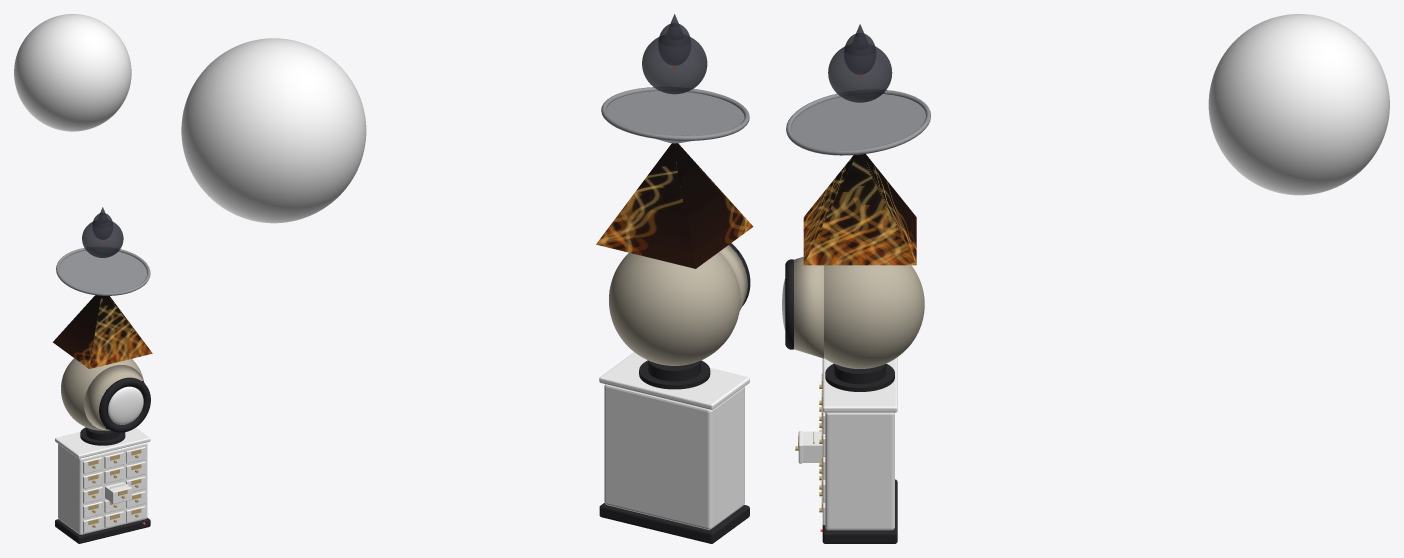
The model's file is stupa2.glb.
3 renders of one model, left to right at view 1: azimuth 30°, elevation 25°; view 2: azimuth 150°, elevation 25°; view 3: azimuth 270°, elevation 25°, orthographic. The views are drawn at different scales.
Visible parts, largest first — view 1: Sphere.005, Cone.001, Cube.001, Cone.002, Sphere, Cone, Sphere.002, Cube.002, Torus, Sphere.001, Cube, Torus.001 (+19 smaller); view 2: Sphere.005, Cube.001, Sphere, Cone.001, Cone.002, Cube.002, Sphere.002, Cube, Torus.001, Sphere.003, Cylinder.017, Cylinder.016; view 3: Sphere.005, Cone.001, Sphere, Cube.001, Cone.002, Sphere.002, Cone, Cube.002, Torus.001, Cube, Sphere.003, Cylinder.017 (+2 smaller).
Boxes of the visible parts, <box> form: Sphere.005: <box>14,14,131,131</box>; Cone.001: <box>53,295,152,368</box>; Cube.001: <box>58,442,147,534</box>; Cone.002: <box>59,250,147,292</box>; Sphere: <box>61,358,143,430</box>; Cone: <box>84,365,144,430</box>; Sphere.002: <box>82,220,123,257</box>; Cube.002: <box>55,427,150,458</box>; Torus: <box>99,377,150,432</box>; Sphere.001: <box>108,386,143,424</box>; Cube: <box>55,518,150,543</box>; Torus.001: <box>56,248,150,295</box>; Sphere.005: <box>181,38,366,223</box>; Cube.001: <box>604,384,744,529</box>; Sphere: <box>609,252,740,365</box>; Cone.001: <box>596,143,753,268</box>; Cone.002: <box>606,91,744,143</box>; Cube.002: <box>599,352,749,409</box>; Sphere.002: <box>642,35,707,94</box>; Cube: <box>599,503,749,543</box>; Torus.001: <box>601,87,749,140</box>; Sphere.003: <box>658,23,690,65</box>; Cylinder.017: <box>639,360,710,389</box>; Cylinder.016: <box>648,360,700,381</box>; Sphere.005: <box>1208,14,1389,195</box>; Cone.001: <box>803,154,916,265</box>; Sphere: <box>824,265,924,368</box>; Cube.001: <box>825,412,894,530</box>; Cone.002: <box>791,94,925,150</box>; Sphere.002: <box>828,44,892,102</box>; Cone: <box>794,256,823,358</box>; Cube.002: <box>822,357,897,412</box>; Torus.001: <box>786,90,930,155</box>; Cube: <box>822,479,897,543</box>; Sphere.003: <box>844,33,875,74</box>; Cylinder.017: <box>825,363,894,391</box>.
Bounding box in the file's own units: 2.82 × 4.95 × 4.71.
Materials: 12 (2 with a texture image).
